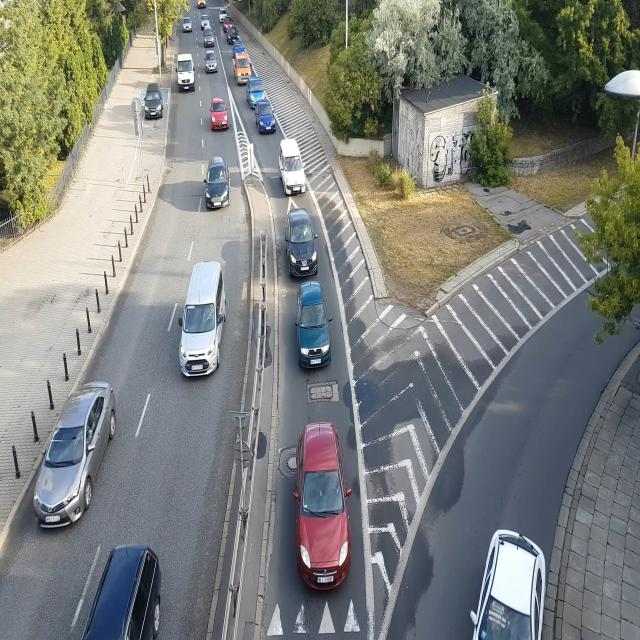car: (30, 372, 119, 536), (296, 420, 353, 596), (476, 523, 545, 640), (84, 547, 164, 640), (178, 252, 228, 394), (294, 278, 333, 367), (285, 210, 318, 278), (279, 139, 309, 196), (205, 157, 231, 210), (176, 52, 196, 92), (254, 101, 278, 134), (143, 88, 165, 120), (211, 100, 231, 132), (248, 90, 272, 110), (234, 58, 251, 82), (249, 76, 266, 99), (205, 50, 220, 73), (226, 24, 241, 42), (232, 44, 248, 60), (198, 12, 210, 30), (203, 29, 214, 46), (220, 10, 231, 23), (184, 19, 194, 32), (196, 0, 206, 11)
